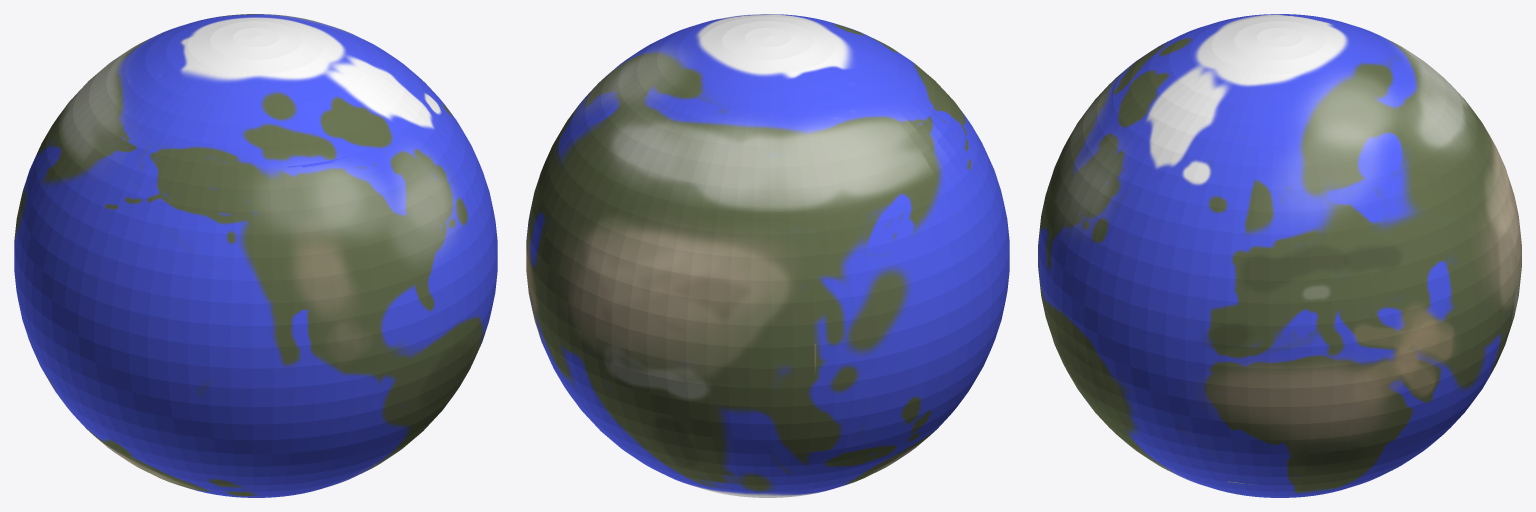
File: Earth.glb
3 renders of one model, left to right at view 1: azimuth 30°, elevation 25°; view 2: azimuth 150°, elevation 25°; view 3: azimuth 270°, elevation 25°, orthographic.
Visible parts, largest first — view 1: Sphere; view 2: Sphere; view 3: Sphere.
Boxes of the visible parts, x1,y1,x2,y2 form: Sphere: (14,14,497,497); Sphere: (526,14,1009,497); Sphere: (1038,14,1521,497).
Size of the model in its own units: 2 by 2 by 2.
1 material, 1 textured.
